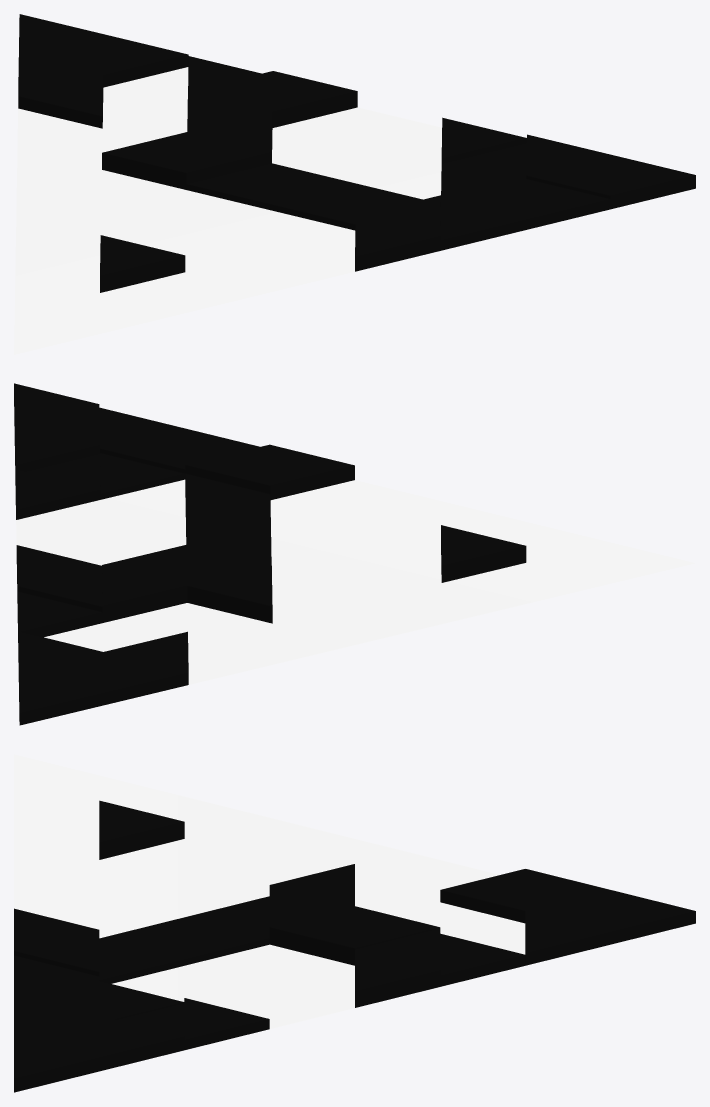
File: d3da86e0-3f26-48fc-95d5-4aa45851cff4.glb
The picture shows the model from 3 angles, top to bottom: view 1: azimuth 30°, elevation 25°; view 2: azimuth 150°, elevation 25°; view 3: azimuth 270°, elevation 25°; orthographic projection.
Parts seen in each view (by area): view 1: Cyberpunk Triangle Tile.002; view 2: Cyberpunk Triangle Tile.002; view 3: Cyberpunk Triangle Tile.002.
Part boxes in pixels (x1,y1,x2,y2): Cyberpunk Triangle Tile.002: (14,14,695,354); Cyberpunk Triangle Tile.002: (14,383,694,725); Cyberpunk Triangle Tile.002: (14,754,695,1092).
Bounding box in the file's own units: 1.02 × 0.0243 × 0.8664.
Materials: 1 (1 with a texture image).
